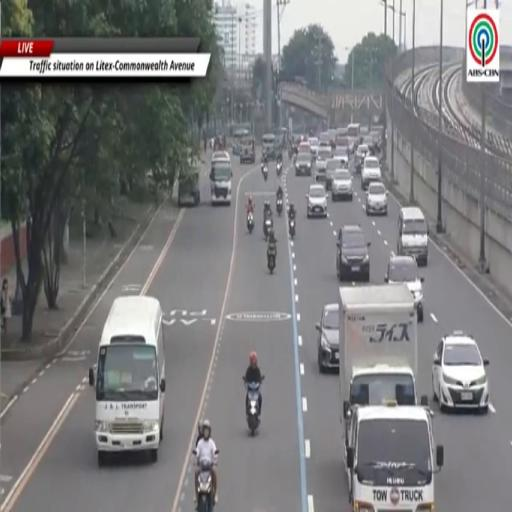bus: (89, 296, 165, 466), (210, 152, 232, 204), (179, 170, 200, 206), (233, 128, 250, 155), (262, 134, 276, 159), (347, 123, 360, 138)
car: (432, 331, 489, 412), (385, 254, 423, 322), (336, 226, 370, 282), (397, 206, 428, 265), (316, 303, 339, 373), (331, 169, 353, 201), (366, 182, 387, 215), (361, 156, 381, 190), (306, 185, 327, 217), (315, 147, 331, 182), (326, 158, 343, 190), (355, 144, 369, 172), (295, 153, 311, 175), (333, 147, 349, 168), (298, 141, 311, 158), (362, 135, 373, 153), (212, 151, 230, 161), (319, 133, 330, 147), (309, 138, 318, 155)
motorcycle: (243, 376, 264, 436), (197, 459, 214, 511), (267, 247, 276, 274), (264, 217, 273, 241), (247, 212, 254, 233), (289, 219, 295, 239), (276, 198, 282, 216), (276, 162, 282, 177), (262, 166, 267, 181), (288, 148, 292, 158), (294, 155, 296, 165)
truck: (339, 283, 417, 446), (346, 403, 443, 511)
